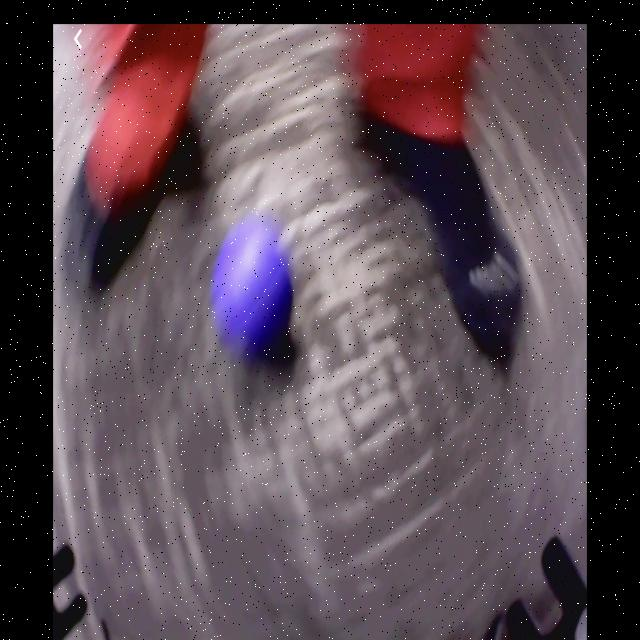ball: (218, 236, 294, 348)
